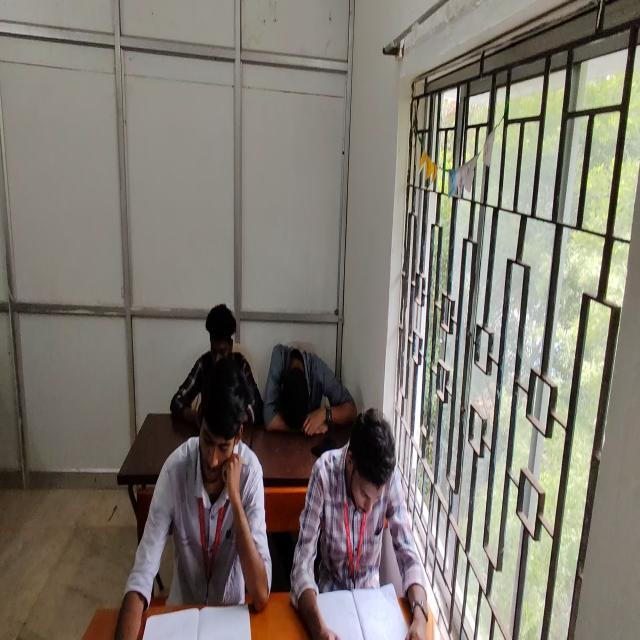reading: (115, 354, 270, 640), (287, 409, 410, 640)
sleeping: (264, 343, 354, 437)
using_mobile: (169, 302, 263, 429)
